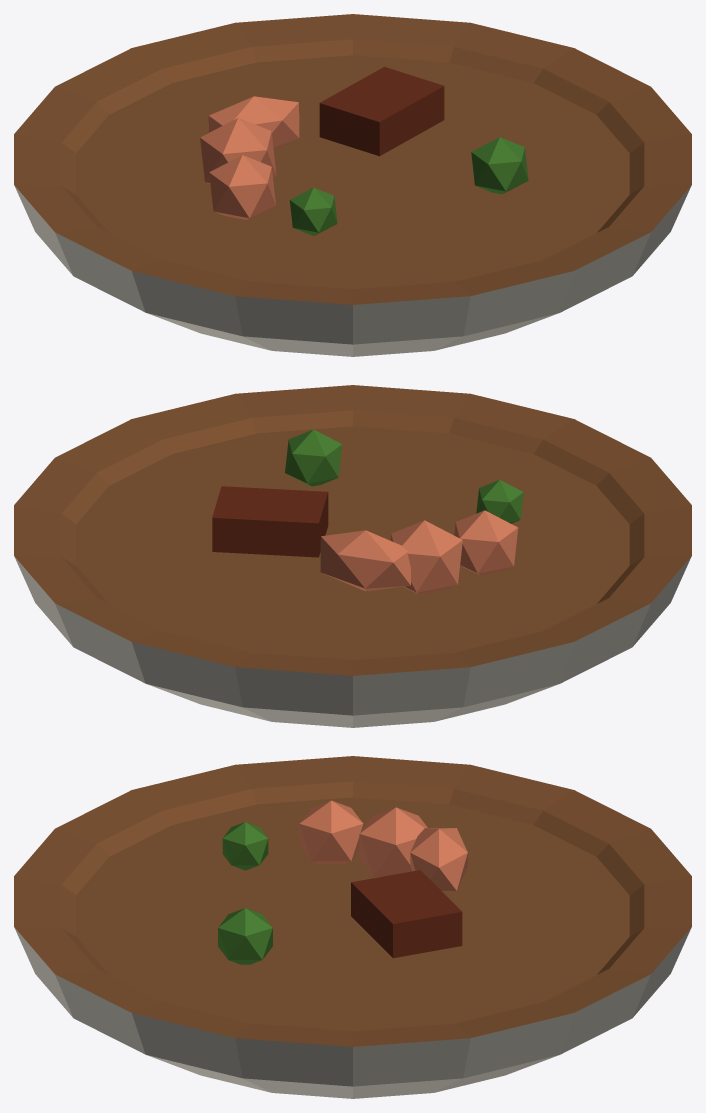
Rendered from Surf_n_Turf.glb.
3 views of the same model, one above another, from view 1: azimuth 30°, elevation 25°; view 2: azimuth 150°, elevation 25°; view 3: azimuth 270°, elevation 25° (orthographic).
Visible parts, largest first — view 1: _I_SurfNTurf; view 2: _I_SurfNTurf; view 3: _I_SurfNTurf.
Part boxes in pixels (x1,y1,x2,y2): _I_SurfNTurf: (14,14,691,356); _I_SurfNTurf: (14,385,691,727); _I_SurfNTurf: (14,756,691,1098).
Bounding box in the file's own units: 0.64 × 0.17 × 0.6303.
